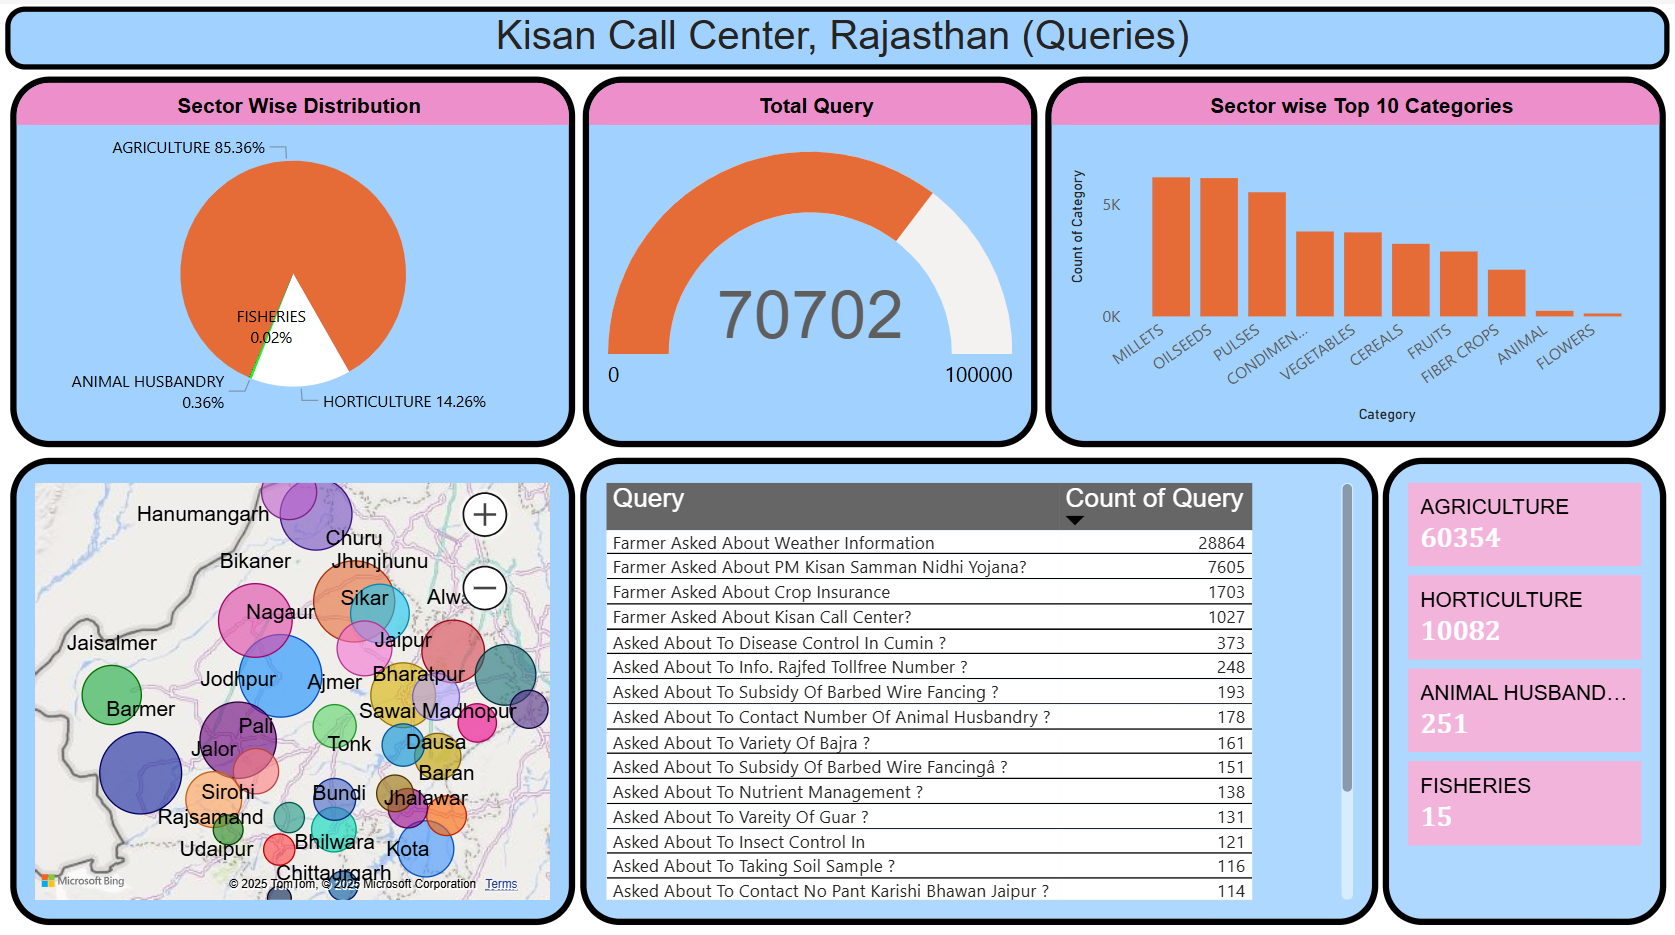

The dashboard page shown, as its layout file describes it:
{"tool":"powerbi","page":{"name":"Dashboard","canvas":[1280,720],"ordinal":0},"visuals":[{"type":"map","title":"District Wise Query","fields":{"Size":["CountNonNull(Cleaned.District)"],"Category":["Location (2).District"],"Series":["Location (2).District"],"Y":["Avg(Location (2).Latitude)"],"X":["Avg(Location (2).Longitude)"]},"box":[8.4,346.2,430.7,359.5],"z":0},{"type":"clusteredColumnChart","title":"Top 10 Category Wise Query","fields":{"Category":["Table1_15.Category"],"Y":["CountNonNull(Table1_15.Category)"]},"box":[8.4,51.9,422.3,289.5],"z":1000},{"type":"gauge","title":"Total Query","fields":{"Y":["CountNonNull(Table1_15.Category)"]},"box":[439.1,51.9,445.2,289.5],"z":2000},{"type":"card","title":"Top 1 Query","fields":{"Values":["Min(Cleaned.Query)"]},"box":[443.1,346.9,608.1,33.8],"z":3000},{"type":"tableEx","fields":{"Values":["Cleaned.Query","CountNonNull(Cleaned.Query)"]},"box":[443,383.6,608,322.1],"z":4000},{"type":"pieChart","title":"Sector Wise Distribution","fields":{"Category":["Table1_15.Sector"],"Y":["CountNonNull(Table1_15.Sector)"]},"box":[894,51.9,376.4,289.5],"z":5000},{"type":"multiRowCard","fields":{"Values":["CountNonNull(Table1_15.Sector)","Table1_15.Sector"]},"box":[1054.4,349.9,216,355.9],"z":6000},{"type":"textbox","title":"Kisan Call Center, Rajasthan (Queries)","box":[4.8,2.4,1268,48.3],"z":7000}]}

Visuals, with their boxes in screenshot pixels (x1, y1, x2, y2), scaled from the page's 1280x720 canvas onto the 1675x935 screenshot:
"District Wise Query" map: (11,450,575,916)
"Top 10 Category Wise Query" clusteredColumnChart: (11,67,564,443)
"Total Query" gauge: (575,67,1157,443)
"Top 1 Query" card: (580,450,1376,494)
tableEx - Cleaned.Query x CountNonNull(Cleaned.Query): (580,498,1375,916)
"Sector Wise Distribution" pieChart: (1170,67,1662,443)
multiRowCard - CountNonNull(Table1_15.Sector) x Table1_15.Sector: (1380,454,1662,917)
"Kisan Call Center, Rajasthan (Queries)" textbox: (6,3,1666,66)
